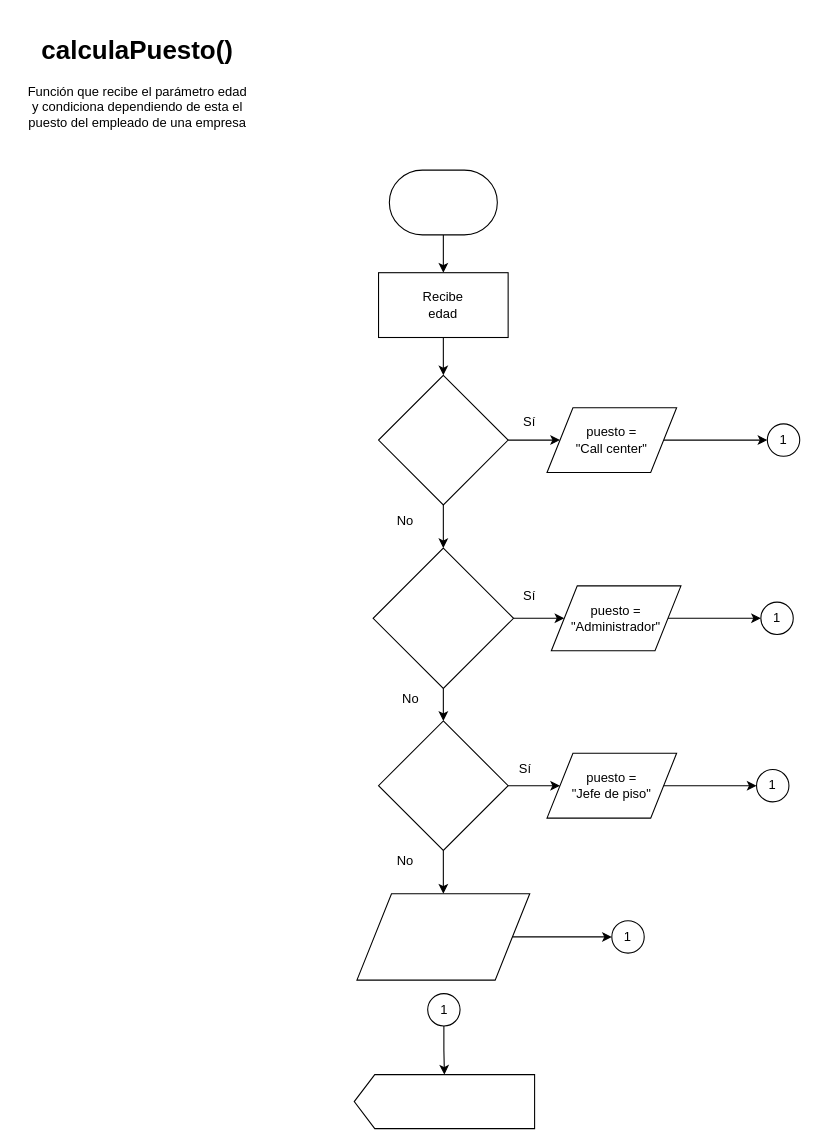
This 819x1147 diagram has some shape labels left out. The shapes that lost their labels are listed below. From the top down, each one's centre as x and y in pixels, then its label:
[442,439]: edad >= 15 and edad <= 18
[443,617]: edad >= 19 and edad <= 25
[442,785]: edad >= 25 and edad <= 45
[443,936]: puesto = "No hay chamba para mayores de 45 :("
[444,1101]: return puesto
